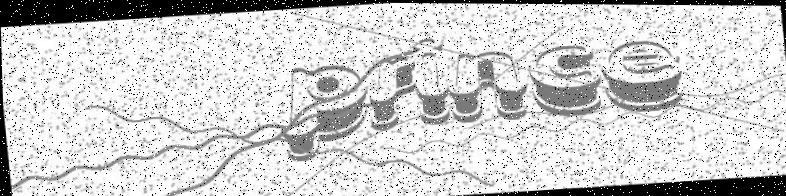c: (527, 42, 604, 117)
e: (599, 38, 685, 112)
i: (412, 37, 450, 124)
n: (447, 49, 531, 123)
p: (280, 63, 370, 162)
r: (364, 56, 421, 130)
